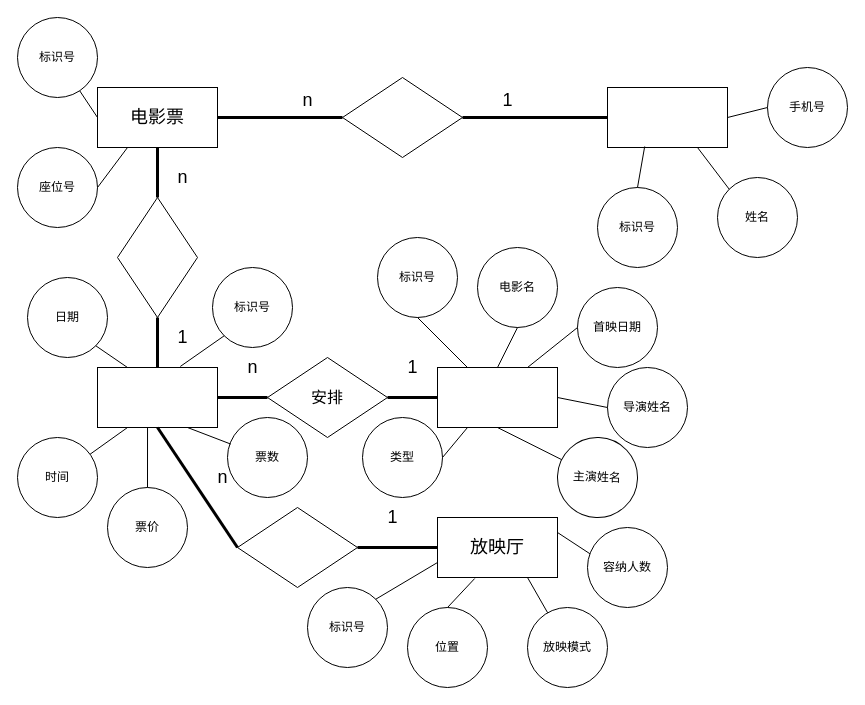
Some shapes in this 865 by 705 pixel diagram are drawn without their labels. Each missing label, with the centre of its shape:
"位于" belongs at pixel 297 547.
"属于" belongs at pixel 157 257.
"排场" belongs at pixel 157 397.
"电影" belongs at pixel 497 397.
"购买" belongs at pixel 402 117.
"顾客" belongs at pixel 667 117.
